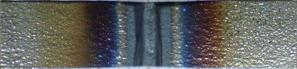soldas: (73, 2, 234, 68)
